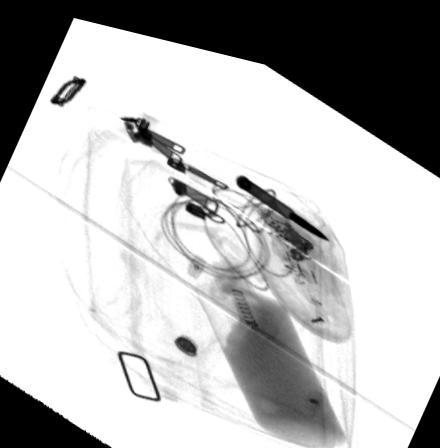Bullet: (234, 161, 334, 229)
